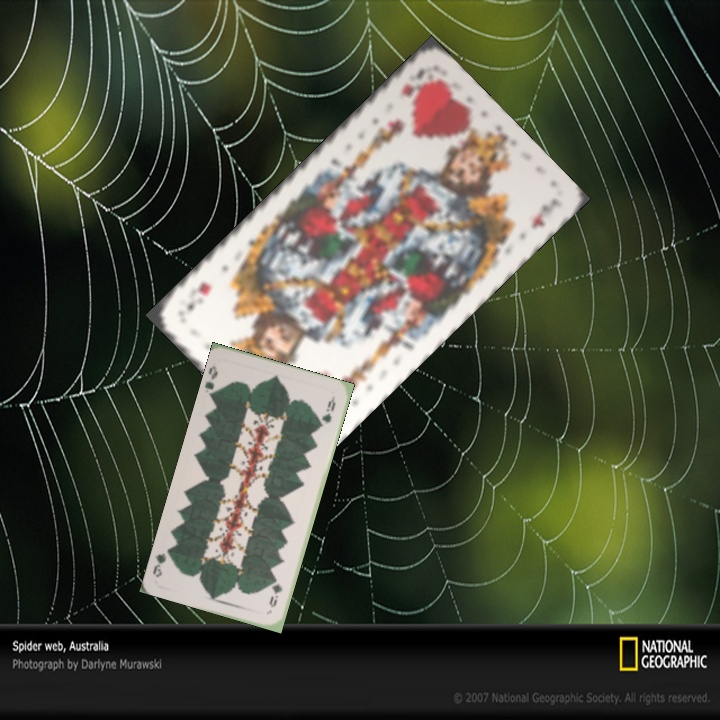G9: (202, 361, 222, 400), (265, 575, 285, 610)
HK: (396, 64, 433, 100)
